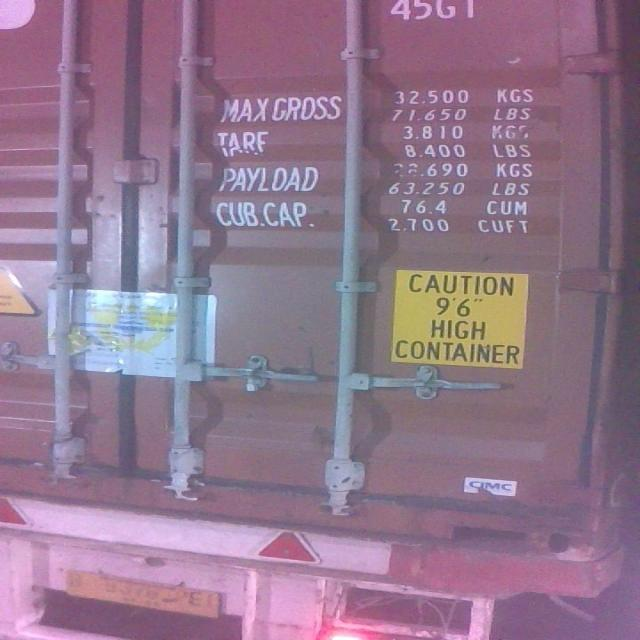seal: (240, 364, 270, 396)
